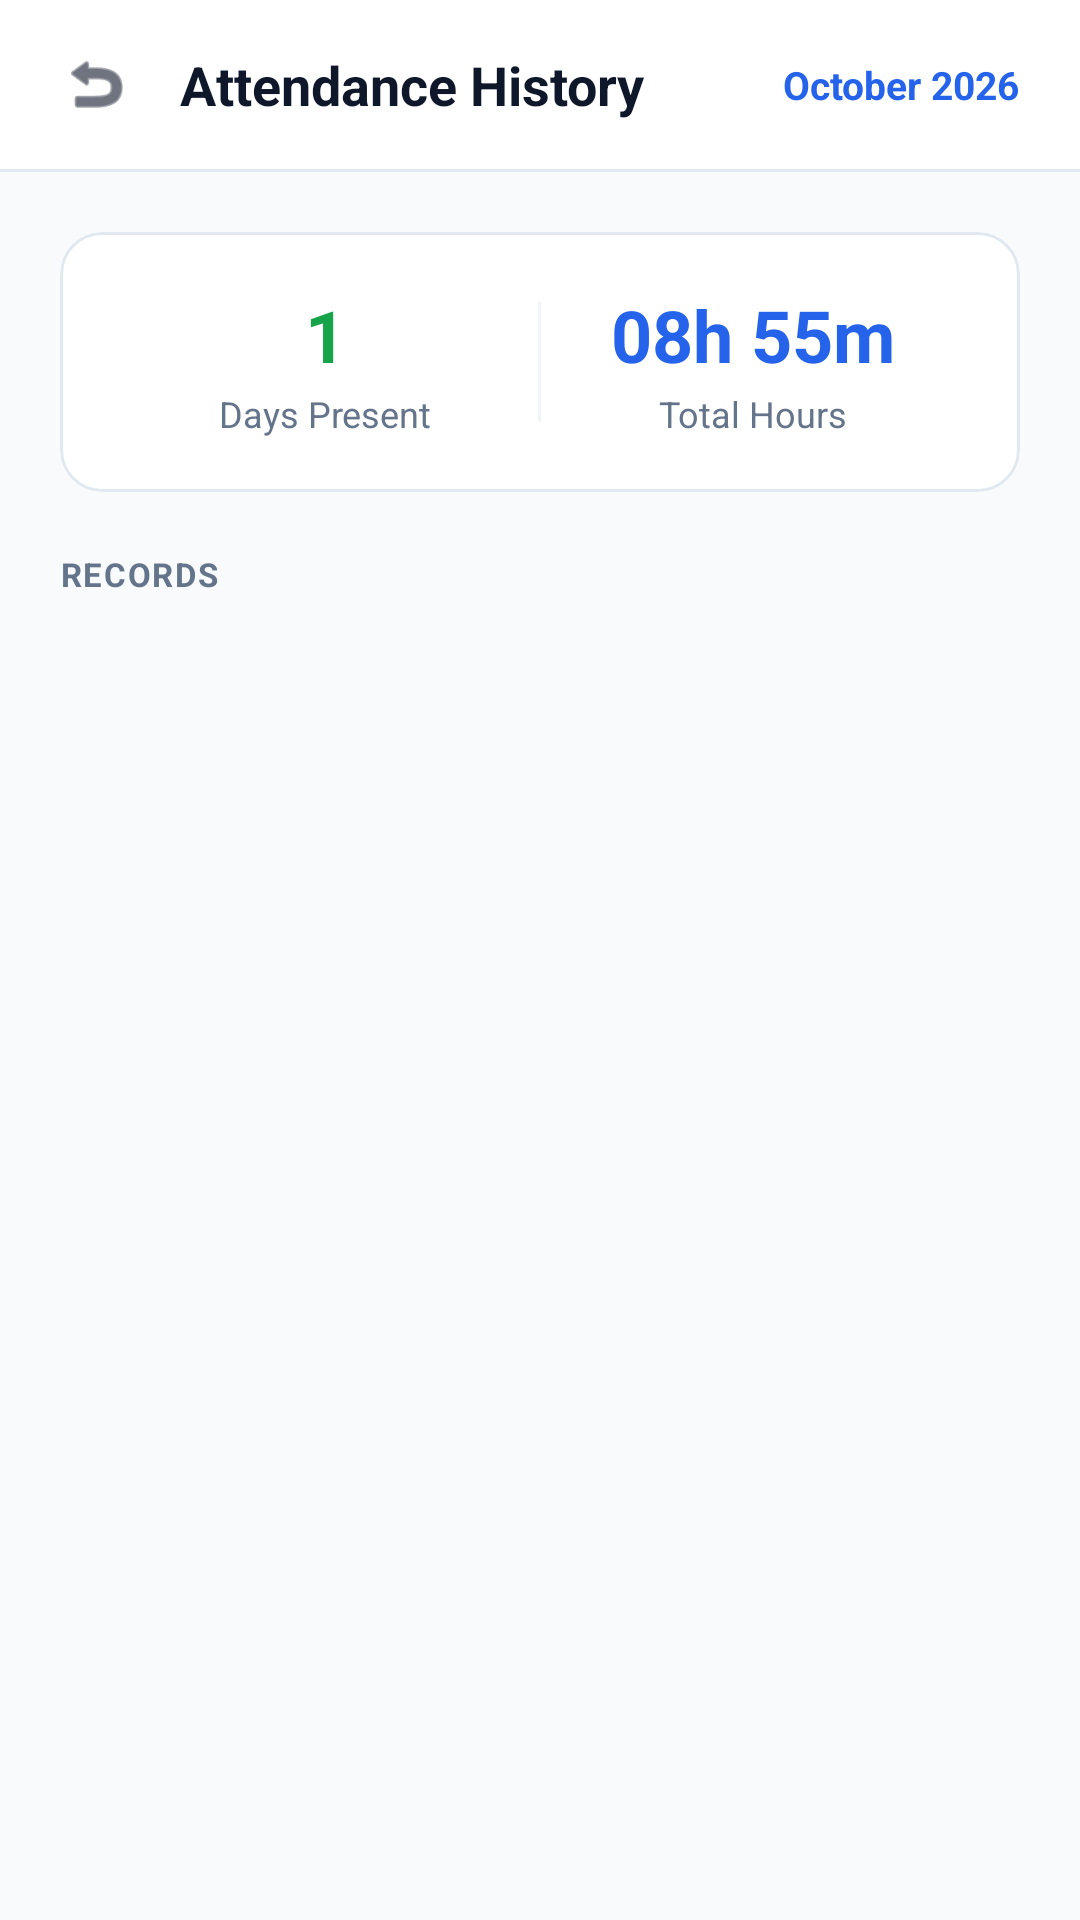

Point at icon controls on the screen. Image size 1080px x 1920px, points as (x,y).
revert: (97,84)
